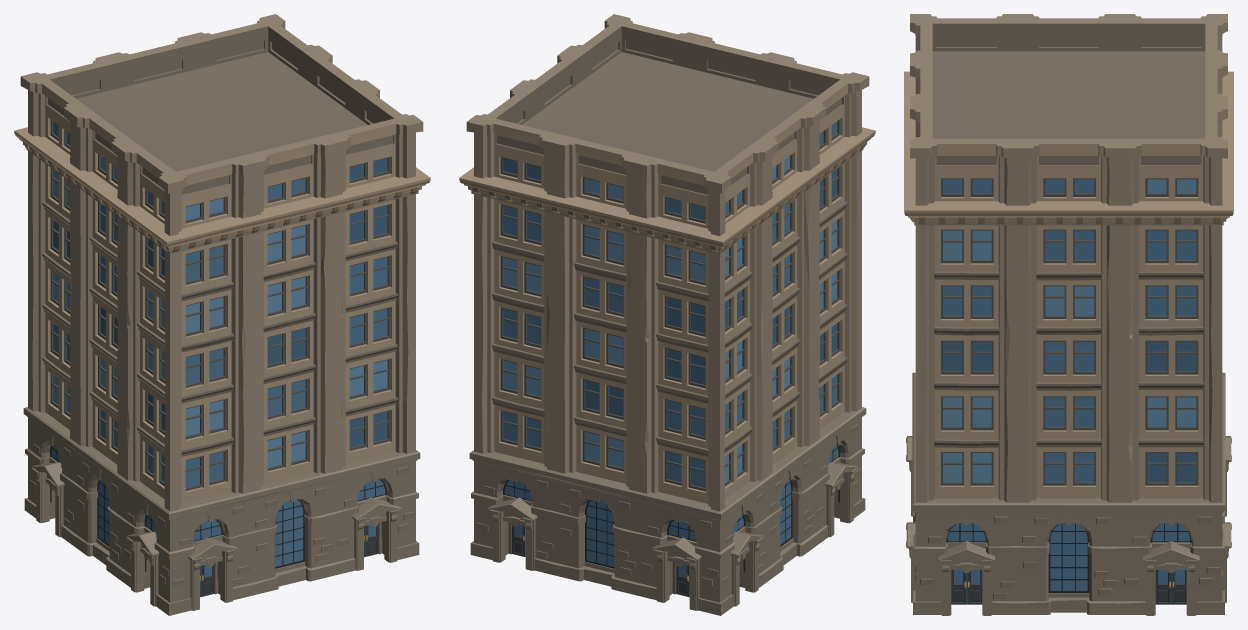
The model's file is SM_Bld_OfficeOld_Large_01.obj.
The picture shows the model from 3 angles, left to right: view 1: azimuth 30°, elevation 25°; view 2: azimuth 150°, elevation 25°; view 3: azimuth 270°, elevation 25°; orthographic projection. The views are drawn at different scales.
Parts seen in each view (by area): view 1: SM_Bld_OfficeOld_Large_01_0; view 2: SM_Bld_OfficeOld_Large_01_0; view 3: SM_Bld_OfficeOld_Large_01_0.
Part boxes in pixels (x1,y1,x2,y2): SM_Bld_OfficeOld_Large_01_0: (14,14,430,615); SM_Bld_OfficeOld_Large_01_0: (459,14,875,615); SM_Bld_OfficeOld_Large_01_0: (904,14,1233,615).
Bounding box in the file's own units: 16.09 × 25.25 × 16.12.
Materials: 1 (1 with a texture image).
